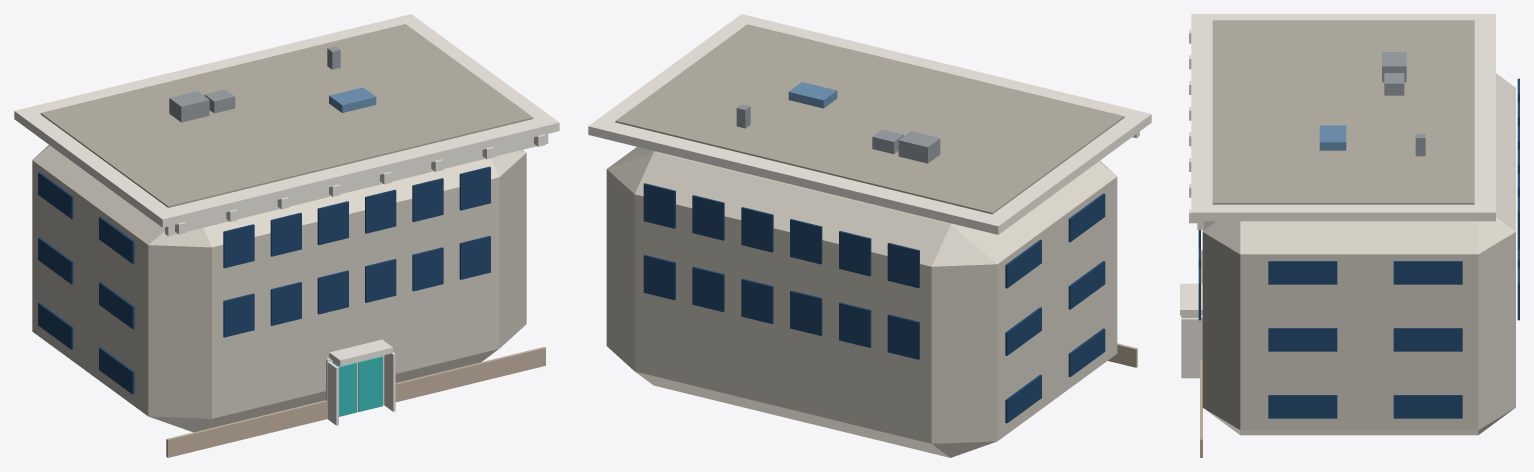
File: apt_w20_f3_punched.glb
3 views of the same model, side by side, from view 1: azimuth 30°, elevation 25°; view 2: azimuth 150°, elevation 25°; view 3: azimuth 270°, elevation 25° (orthographic). The views are drawn at different scales.
Parts seen in each view (by area): view 1: walls, roofslab, corn, bsmt, frieze, door.001, win.002, win, win.001, win.004, win.006, win.009 (+19 smaller); view 2: walls, roofslab, corn, win.022, win.012, win.013, win.015, win.016, win.017, win.019, win.020, win.021 (+12 smaller); view 3: walls, roofslab, corn, sb.001, sb.003, sb.005, sb.007, sb.009, sb.011, cpost.001, skylt, canopy (+3 smaller).
Boxes of the visible parts, left/top/right/bottom form: walls: left=32, top=145, right=526, bottom=432; roofslab: left=40, top=24, right=533, bottom=207; corn: left=14, top=14, right=559, bottom=227; bsmt: left=166, top=347, right=545, bottom=457; frieze: left=165, top=134, right=548, bottom=236; door.001: left=358, top=356, right=382, bottom=411; win.002: left=317, top=270, right=348, bottom=314; win: left=223, top=293, right=254, bottom=337; win.001: left=270, top=282, right=301, bottom=325; win.004: left=412, top=247, right=443, bottom=291; win.006: left=223, top=224, right=254, bottom=268; win.009: left=365, top=189, right=396, bottom=233; walls: left=606, top=147, right=1117, bottom=457; roofslab: left=615, top=24, right=1124, bottom=214; corn: left=588, top=14, right=1151, bottom=234; win.022: left=692, top=195, right=724, bottom=240; win.012: left=887, top=314, right=919, bottom=359; win.013: left=839, top=302, right=871, bottom=347; win.015: left=741, top=278, right=773, bottom=323; win.016: left=692, top=266, right=724, bottom=312; win.017: left=643, top=254, right=675, bottom=300; win.019: left=839, top=231, right=871, bottom=276; win.020: left=790, top=219, right=822, bottom=264; win.021: left=741, top=207, right=773, bottom=252; walls: left=1202, top=73, right=1515, bottom=435; roofslab: left=1212, top=20, right=1474, bottom=204; corn: left=1191, top=14, right=1495, bottom=221; sb.001: left=1268, top=395, right=1337, bottom=418; sb.003: left=1393, top=395, right=1462, bottom=418; sb.005: left=1268, top=328, right=1337, bottom=351; sb.007: left=1393, top=328, right=1462, bottom=351; sb.009: left=1268, top=261, right=1337, bottom=284; sb.011: left=1393, top=261, right=1462, bottom=284; cpost.001: left=1181, top=318, right=1199, bottom=378; skylt: left=1319, top=125, right=1346, bottom=150; canopy: left=1180, top=283, right=1202, bottom=315.
Size of the model in its own units: 21 by 13.3 by 15.17.
